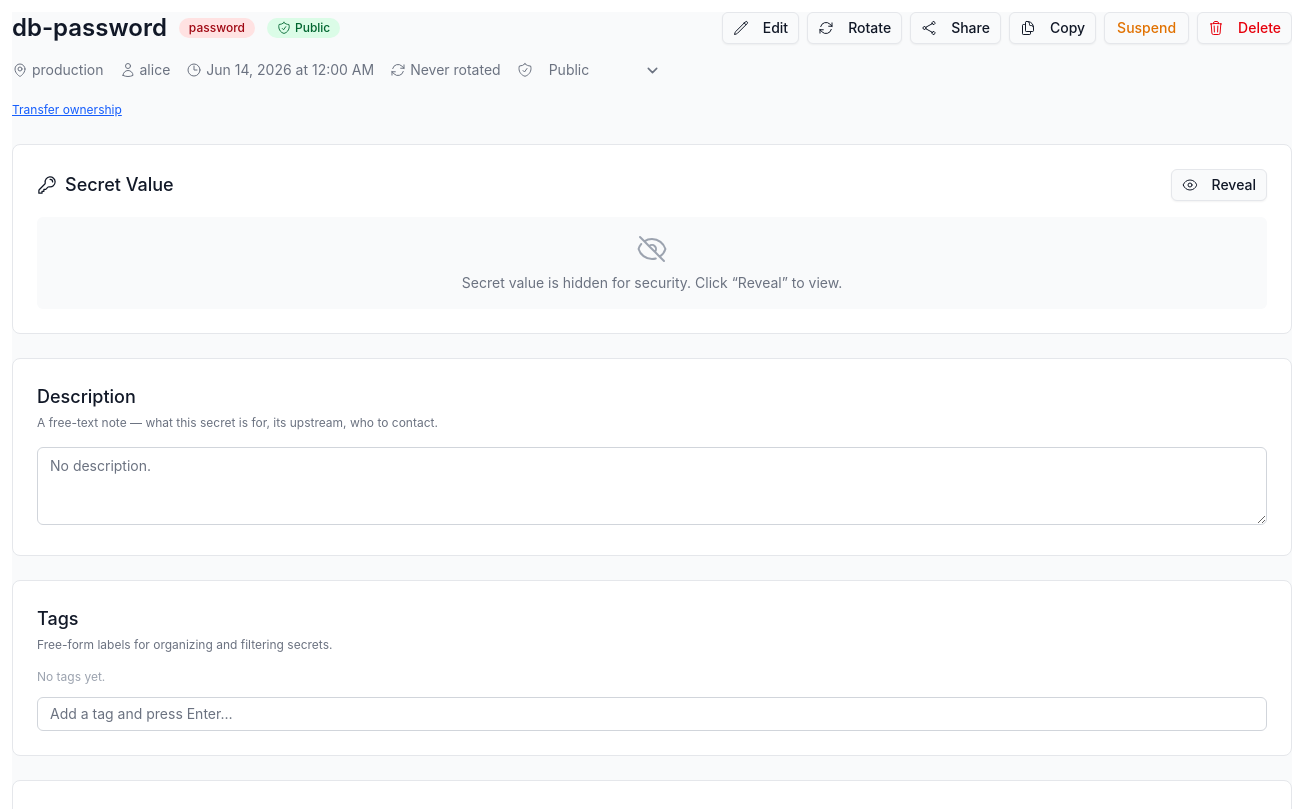
Test case: SecretDetailView classification › updates the badge to the newly selected level
Expected: the element with test id "classification-badge" reads "Public", [295,20,330,35]
Select "Restricted" in the dropdown named "Classification" at (604, 70), box [537,52,671,88]
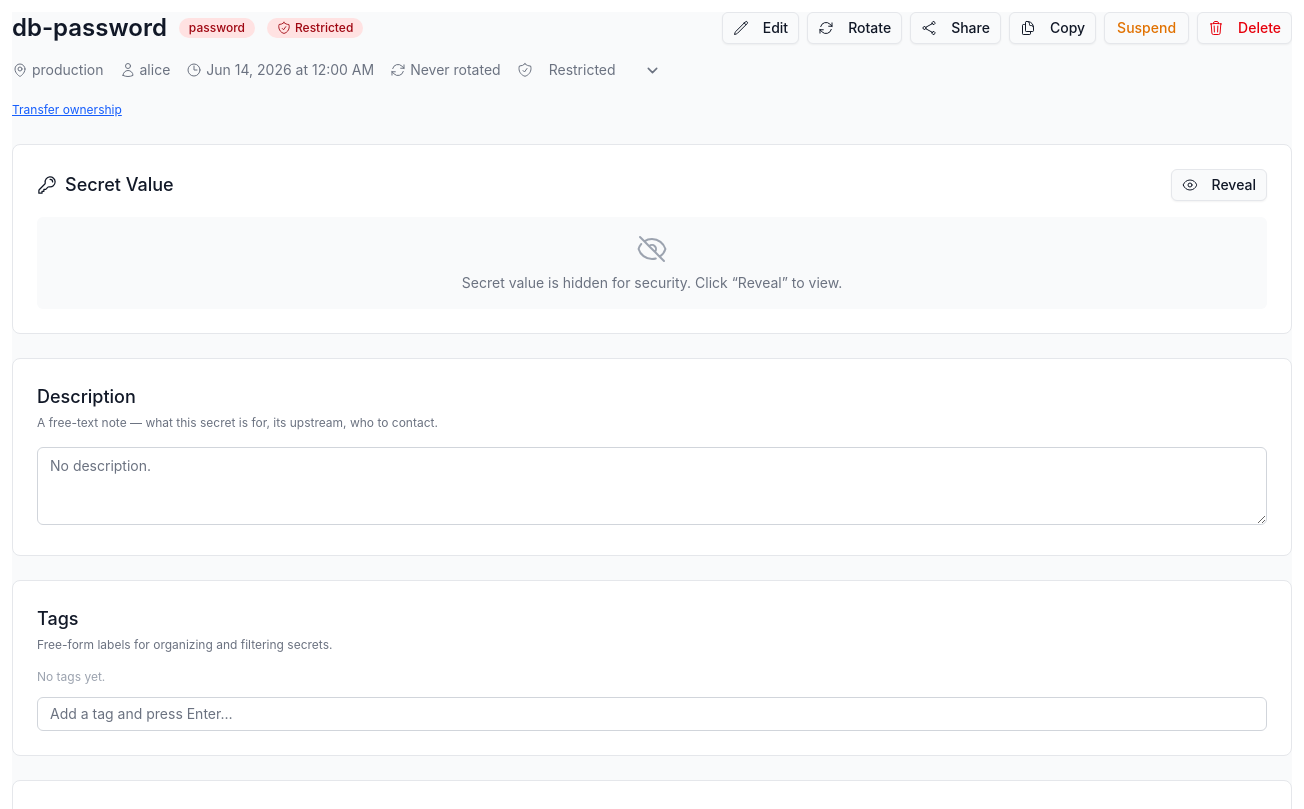
Now the element with test id "classification-badge" reads "Restricted", box [295,20,353,35]
